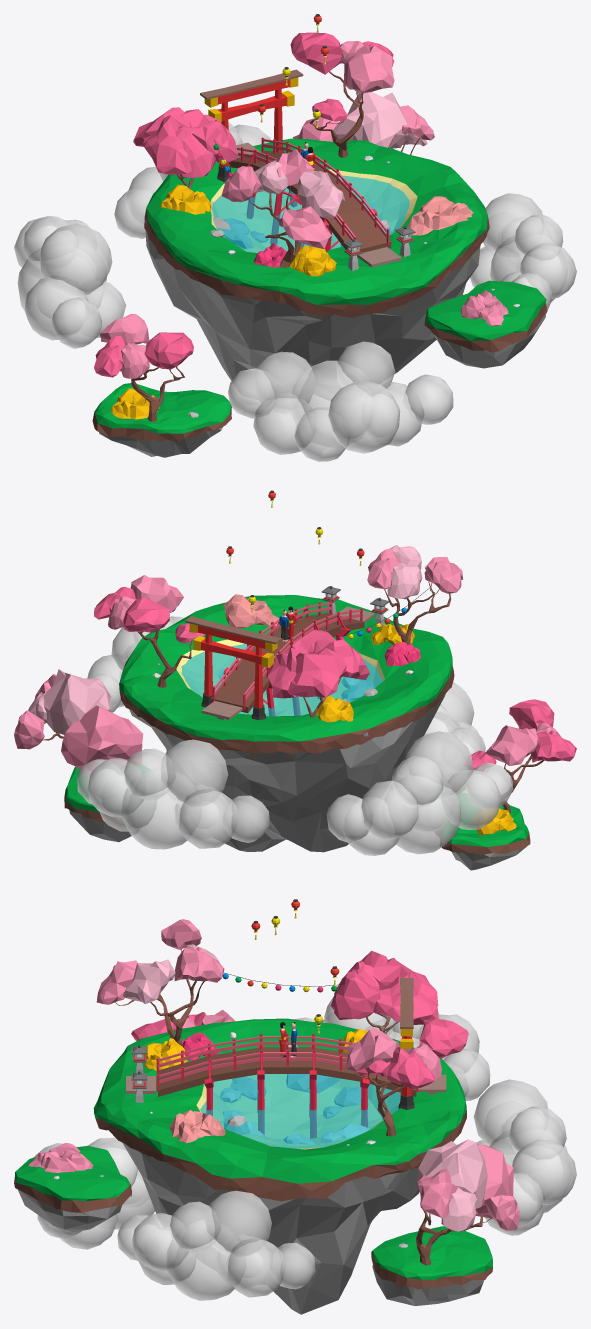
File: land_59.fbx
The picture shows the model from 3 angles, top to bottom: view 1: azimuth 30°, elevation 25°; view 2: azimuth 150°, elevation 25°; view 3: azimuth 270°, elevation 25°; orthographic projection. The views are drawn at different scales.
Parts seen in each view (by area): view 1: land_59.077, Sphere.037, Sphere.035, Sphere.036, polySurface2924, polySurface2923, land_59.067, land_59.061, land_59.007, land_59.074, land_59.079, land_59.052 (+9 smaller); view 2: land_59.077, Sphere.034, Sphere.035, land_59.080, land_59.074, land_59.052, land_59.061, land_59.079, land_59.067, land_59.073, land_59.007, polySurface2923 (+9 smaller); view 3: land_59.077, Sphere.036, land_59.007, Sphere.034, land_59.052, land_59.080, polySurface2922, polySurface2924, land_59.067, land_59.061, land_59.074, Sphere.037 (+8 smaller).
Boxes of the visible parts, x1,y1,x2,y2 form: land_59.077: (144,138,489,380); Sphere.037: (228,341,453,461); Sphere.035: (14,215,126,348); Sphere.036: (470,193,576,314); polySurface2924: (424,280,547,368); polySurface2923: (92,383,231,457); land_59.067: (221,149,345,267); land_59.061: (290,32,394,157); land_59.007: (212,175,409,252); land_59.074: (133,107,237,189); land_59.079: (94,314,193,421); land_59.052: (229,137,391,256); land_59.077: (119,595,454,852); Sphere.034: (77,739,269,849); Sphere.035: (326,731,513,855); land_59.080: (14,669,143,771); land_59.074: (268,629,369,717); land_59.052: (211,601,364,715); land_59.061: (94,575,203,687); land_59.079: (471,699,576,813); land_59.067: (367,545,463,644); land_59.073: (185,616,282,719); land_59.007: (181,644,382,716); polySurface2923: (442,805,530,870); land_59.077: (93,1018,466,1314); Sphere.036: (117,1190,315,1300); land_59.007: (200,1074,400,1148); Sphere.034: (473,1079,576,1235); land_59.052: (156,1033,418,1138); land_59.080: (416,1139,519,1265); polySurface2922: (371,1226,492,1305); polySurface2924: (14,1146,131,1232); land_59.067: (96,919,224,1046); land_59.061: (346,1018,468,1136); land_59.074: (330,950,438,1034); Sphere.037: (34,1137,154,1249).
Size of the model in its own units: 25.6 by 19.64 by 24.85.
